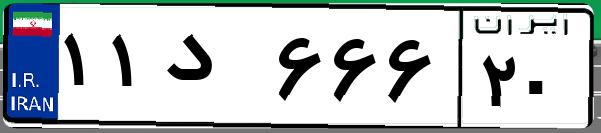0: (525, 38, 570, 115)
1: (57, 26, 110, 100), (110, 28, 158, 98)
2: (475, 38, 525, 113)
6: (270, 28, 330, 110), (385, 28, 445, 110), (330, 28, 385, 110)
د: (158, 20, 270, 120)
